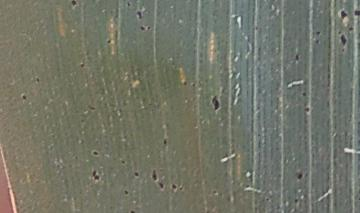tarspot: (209, 93, 222, 113), (337, 34, 351, 48), (292, 168, 304, 183), (90, 168, 101, 183), (149, 167, 160, 181), (75, 60, 88, 70), (338, 8, 348, 21), (89, 148, 100, 159), (133, 8, 144, 19), (312, 37, 323, 48), (121, 187, 132, 198), (18, 92, 29, 102), (156, 182, 168, 191), (67, 1, 80, 9), (292, 50, 300, 63), (290, 195, 300, 205), (131, 170, 142, 179), (181, 77, 189, 89), (170, 180, 178, 192), (353, 7, 360, 20), (33, 75, 43, 84), (161, 137, 169, 148), (301, 105, 312, 113), (146, 22, 153, 33), (104, 37, 113, 45), (127, 207, 139, 213), (312, 29, 323, 35), (137, 23, 145, 31), (300, 89, 308, 97), (124, 1, 132, 8), (118, 158, 127, 164)
